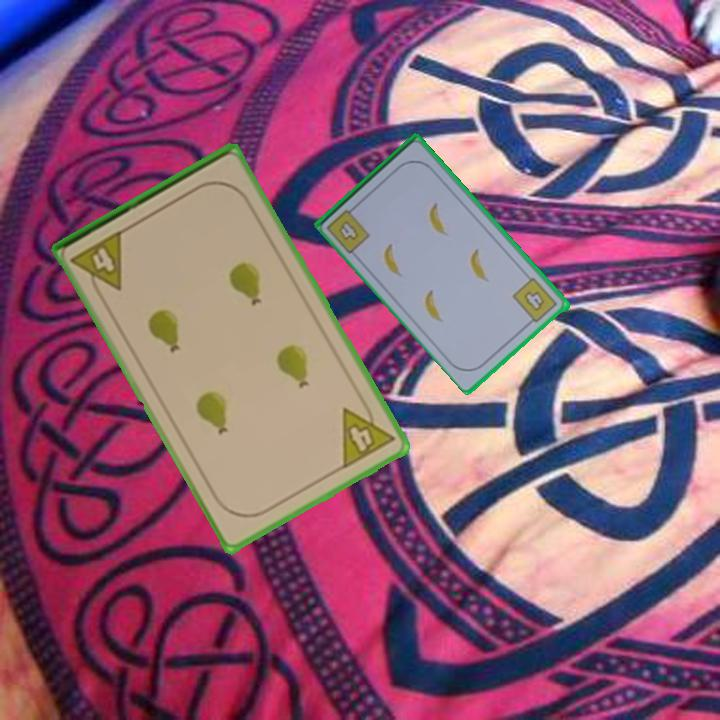4b: (509, 274, 561, 328), (335, 219, 362, 243)
4p: (338, 394, 398, 472), (67, 226, 127, 302)
